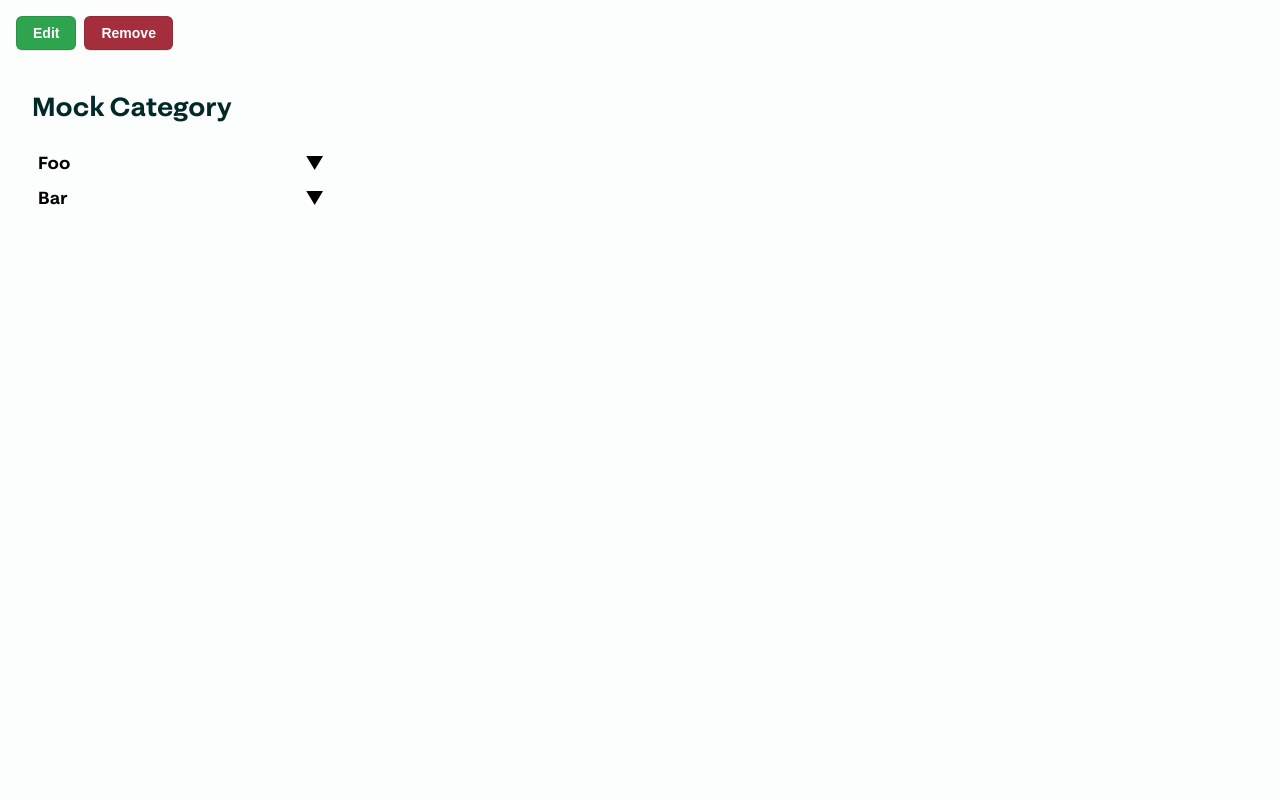
Test: Category › edits and saves a change
The width and height of the screenshot is (1280, 800).
Step 1. Click the button "Edit" → (46, 33), box [16,16,76,50]
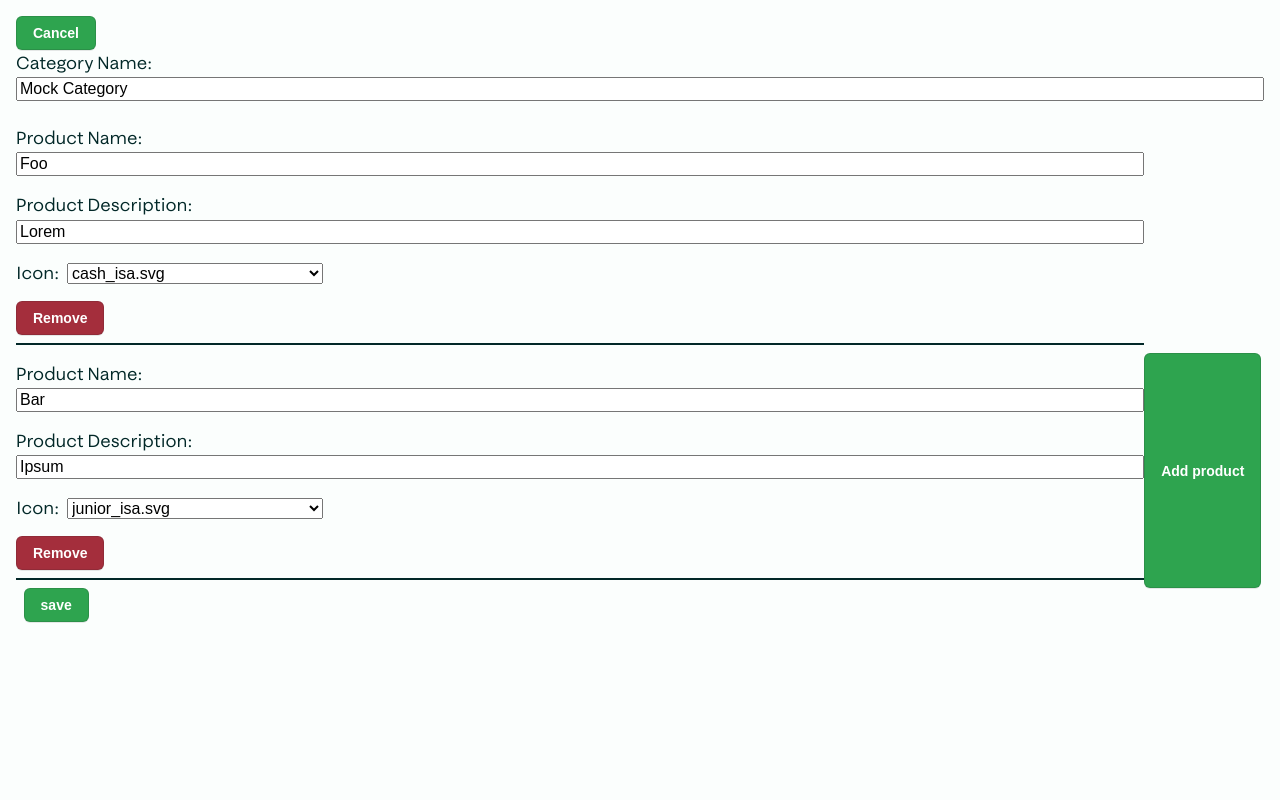
Step 2. Replace the text in the field labelled "Category Name:" with "Mock Category1" → (640, 89), box [16,77,1264,101]
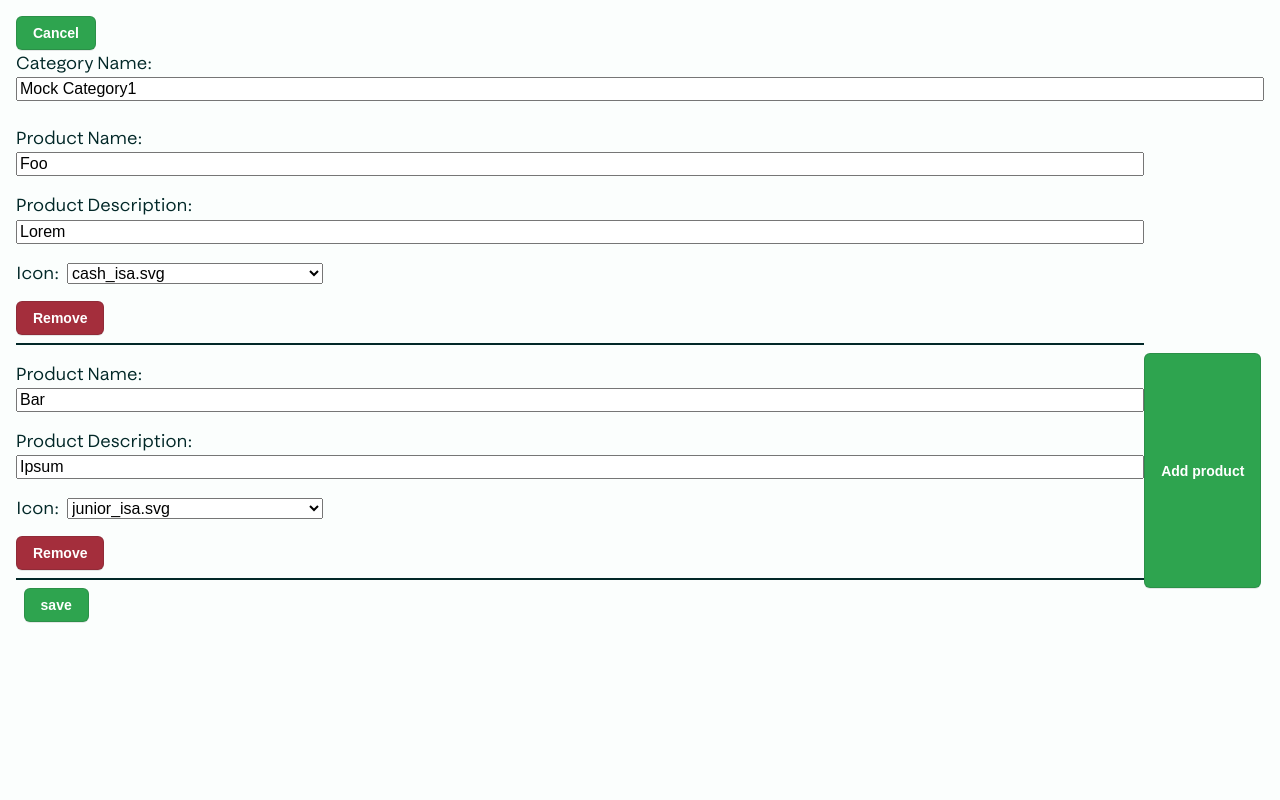
Step 3. Replace the text in the 1st field labelled "Product Name:" with "product edit" → (580, 164), box [16,152,1144,176]
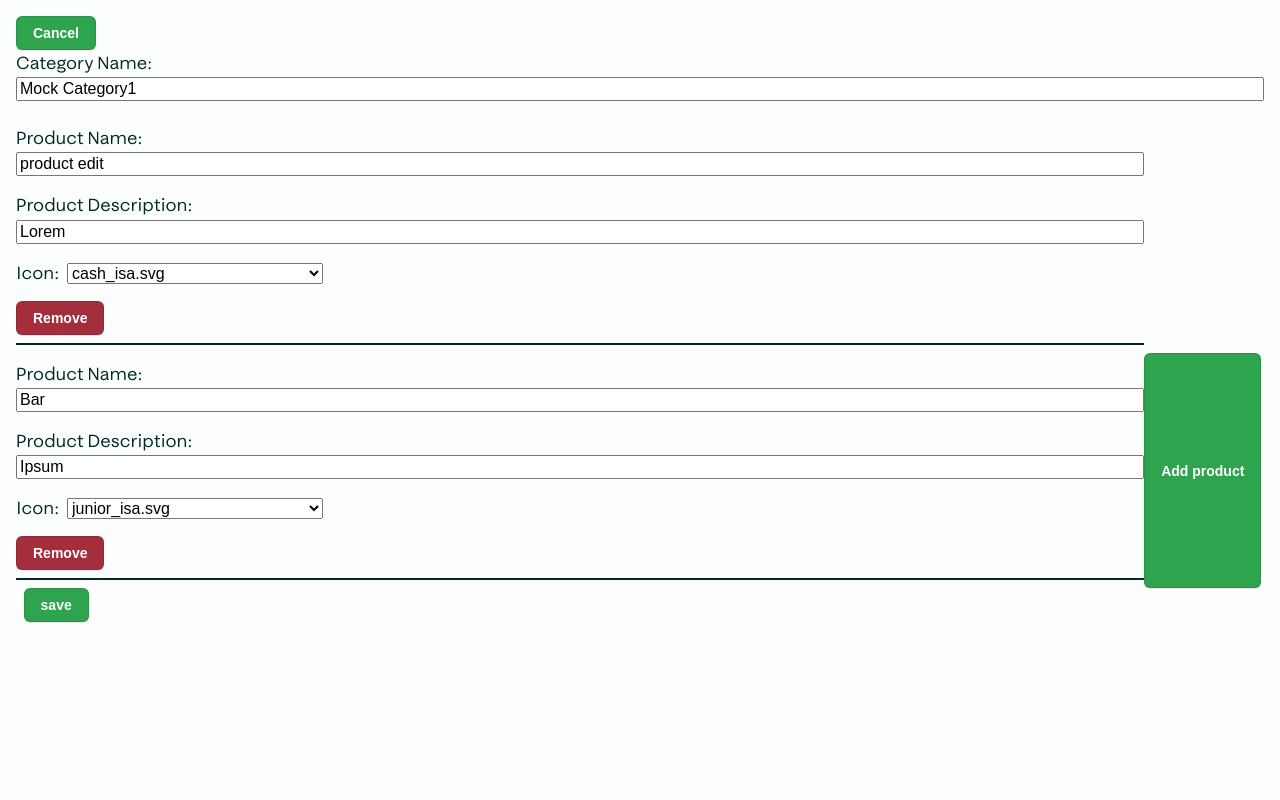
Step 4. Replace the text in the 1st field labelled "Product Description:" with "product description edit" → (580, 232), box [16,220,1144,244]
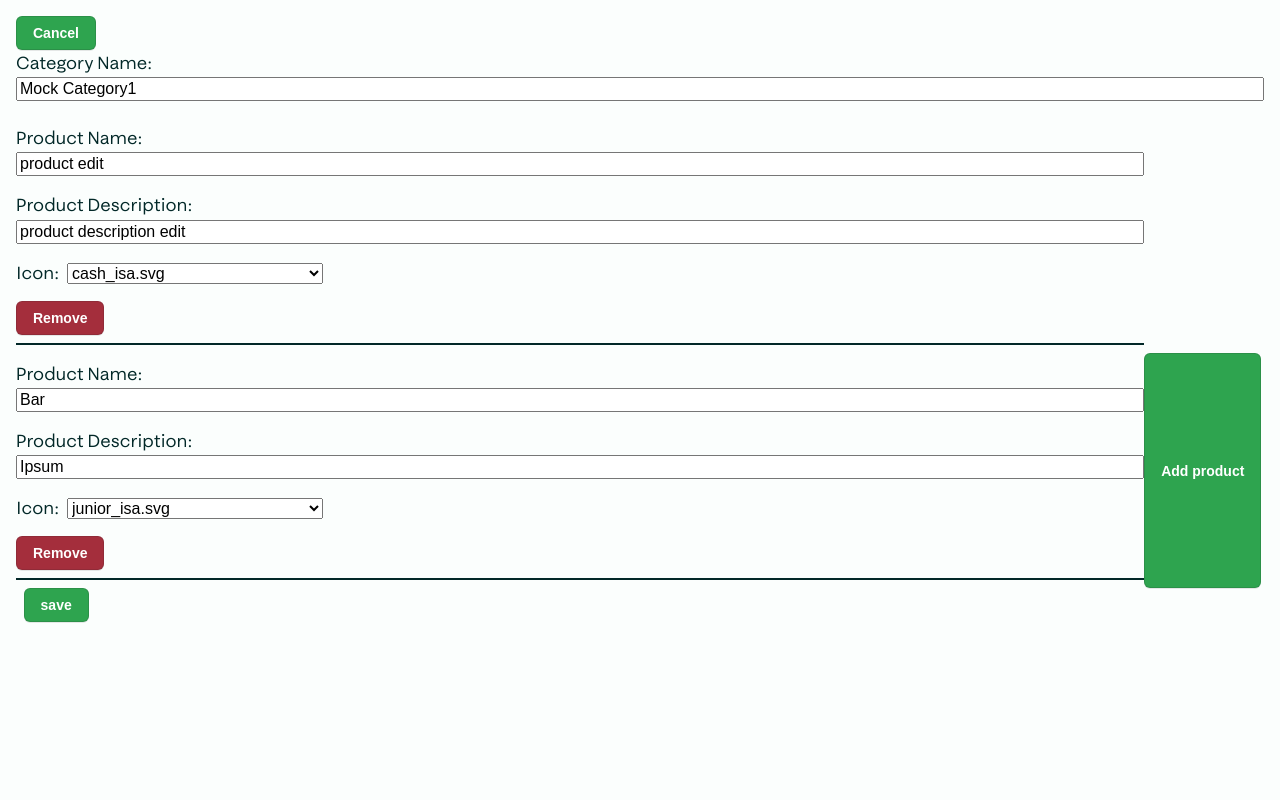
Step 5. Select "junior_isa.svg" in the 1st dropdown labelled "Icon:" → (195, 273), box [67,263,323,284]
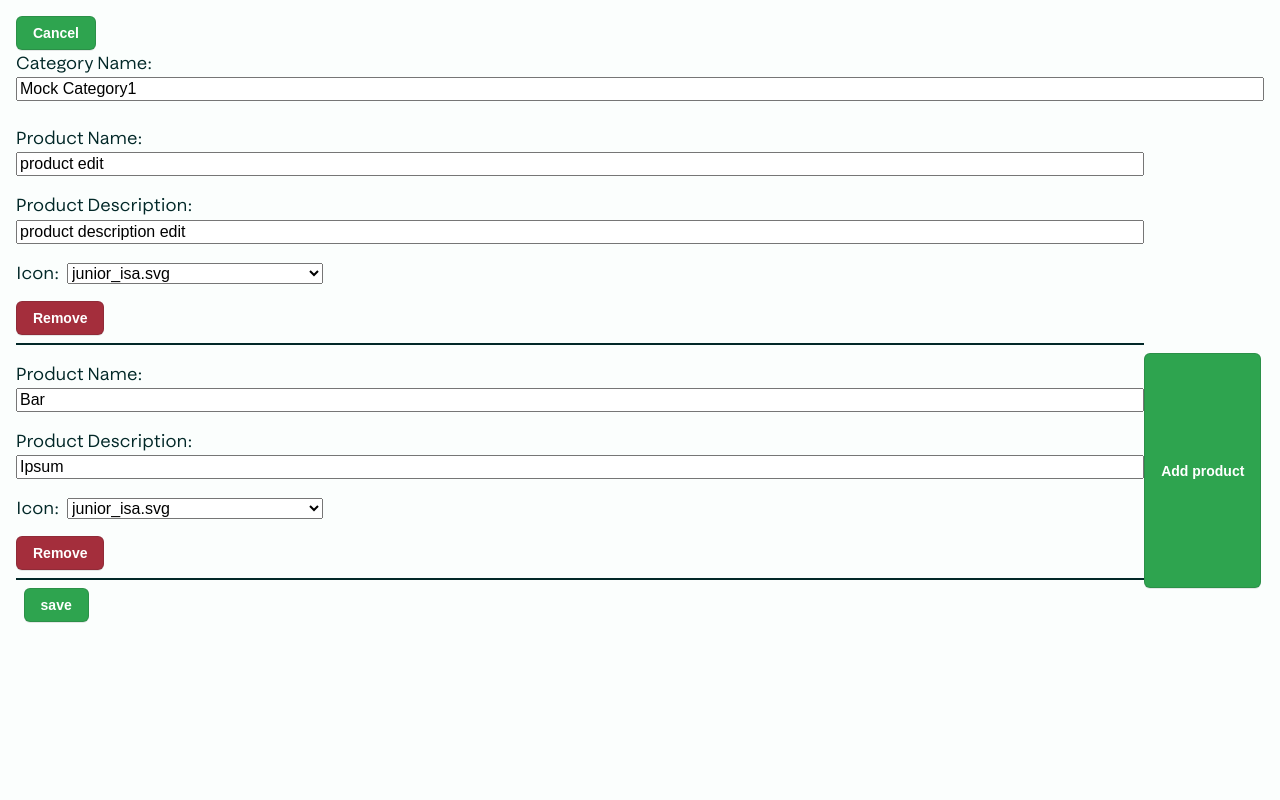
Step 6. Click the button "save" → (56, 605), box [24,588,89,622]
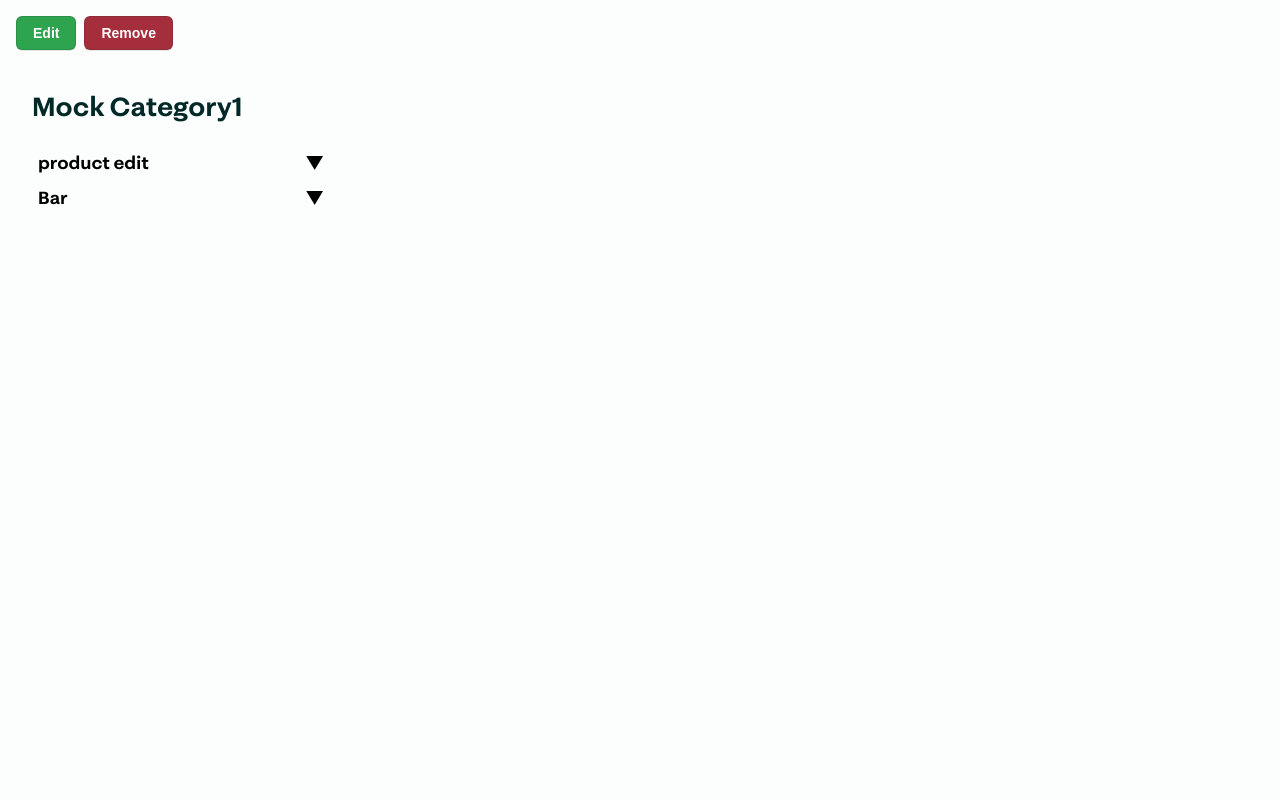
Expected: the heading "Mock Category1" is shown, [32,89,243,123]
